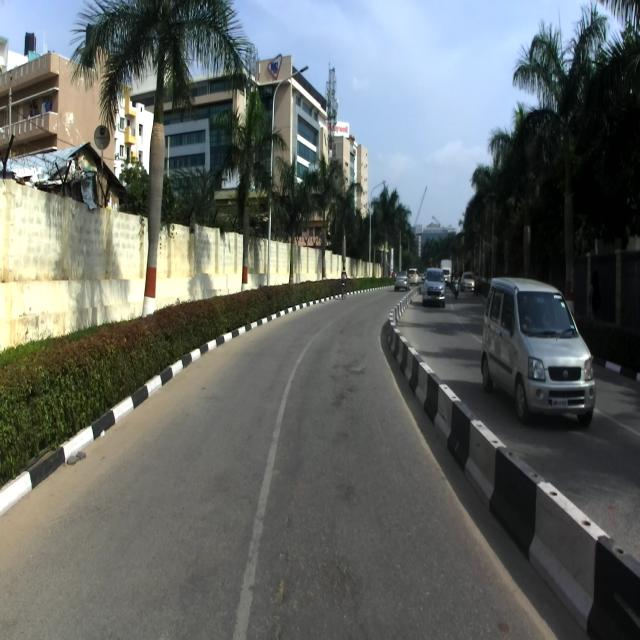car ahead at: (480, 275, 600, 431)
tree ahead at: (142, 28, 170, 324), (231, 139, 256, 294)
